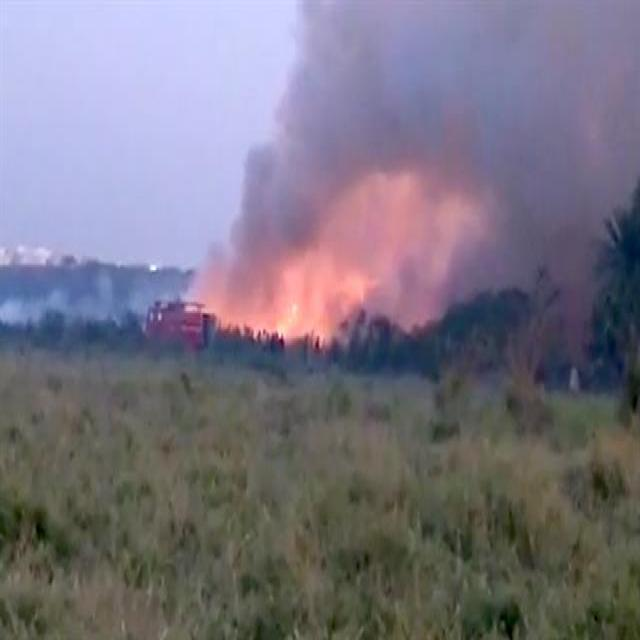Fire: (275, 300, 301, 340)
Smoke: (175, 0, 640, 360), (0, 265, 178, 339)
